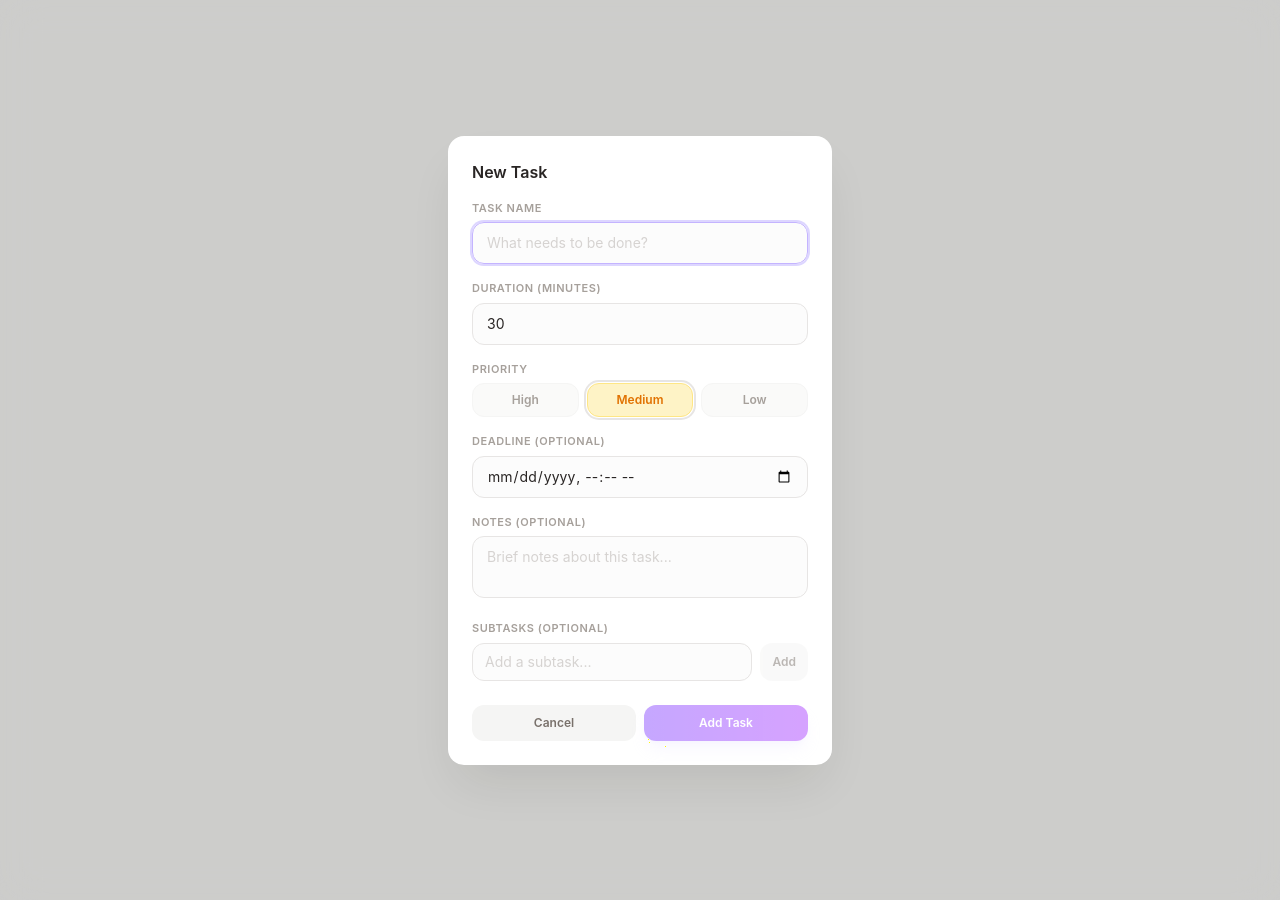
AddTaskModal › submit button enabled when title is provided
Type "My Task" into the field with placeholder "What needs to be done?". click: (640, 243)
box: [472, 222, 808, 264]
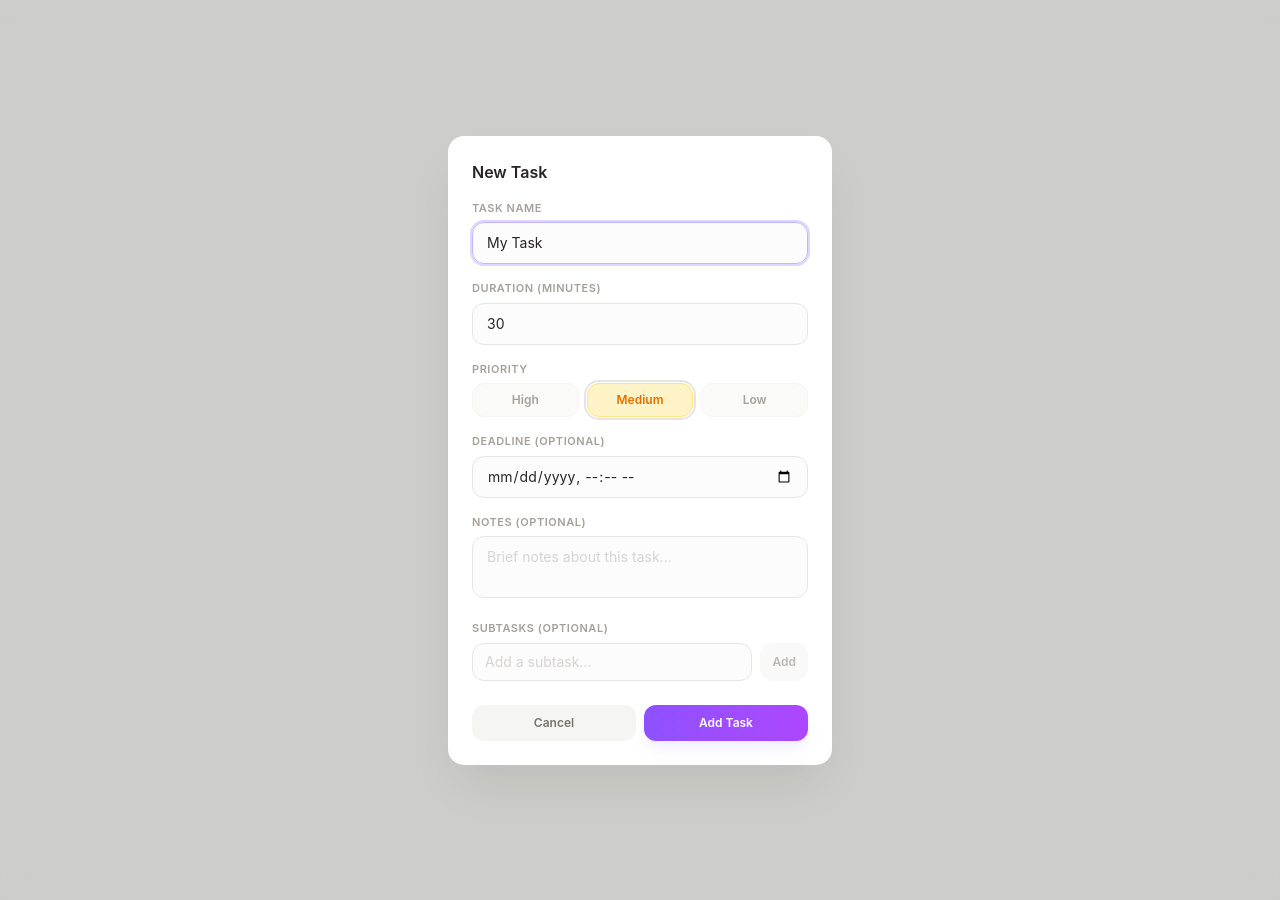
Expected: the button "Add Task" is enabled, [644, 704, 808, 740]
